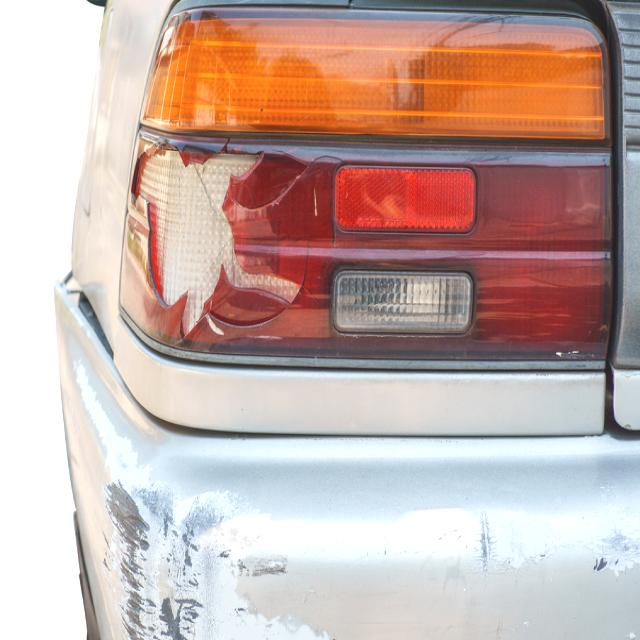Dechirure: (56, 260, 119, 383)
Phare abime: (132, 126, 329, 351)
Rayure: (90, 468, 640, 640)
